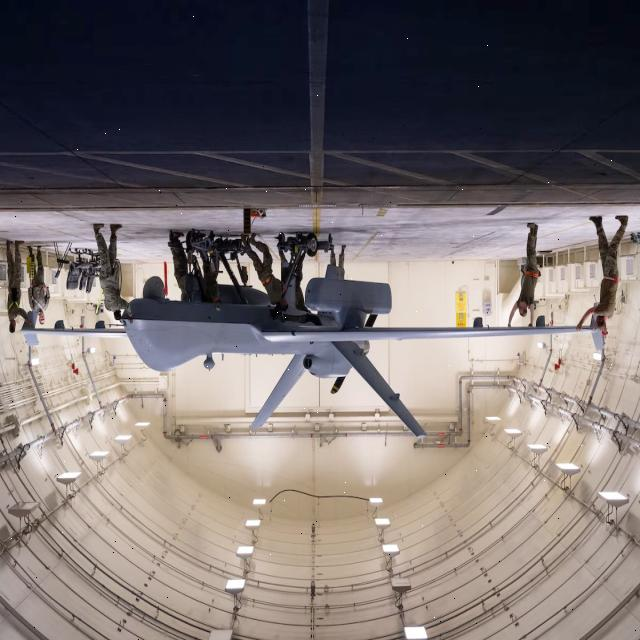MQ9: (71, 174, 638, 513)
